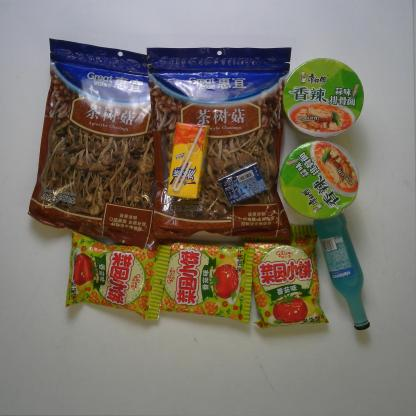Alcohol: (310, 212, 373, 333)
Dried Food: (146, 43, 296, 244), (27, 37, 164, 253)
Drink: (166, 122, 211, 200)
Gum: (217, 161, 269, 208)
Instant Noodles: (281, 56, 368, 141), (276, 137, 363, 222)
Puffed Food: (63, 227, 172, 321), (240, 221, 331, 331), (158, 241, 258, 323)
